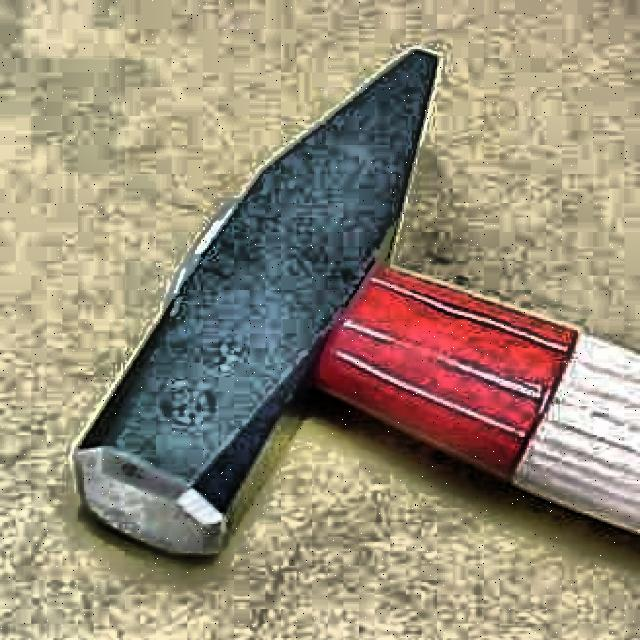hammer: (65, 48, 639, 574)
